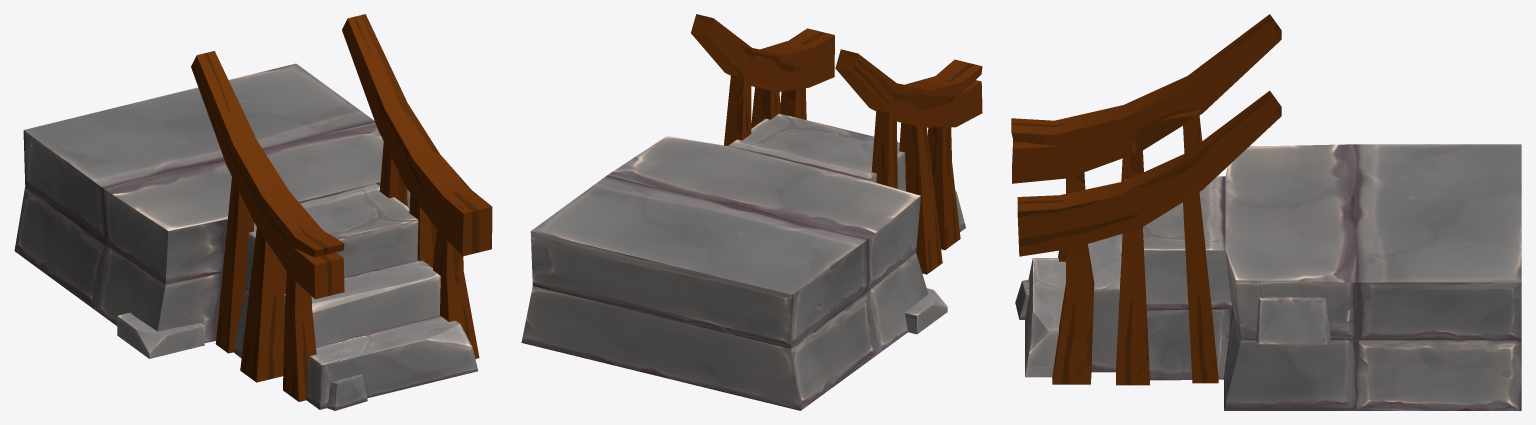
Rendered from SM_BLD_stairs_v01_01.fbx.
3 renders of one model, left to right at view 1: azimuth 30°, elevation 25°; view 2: azimuth 150°, elevation 25°; view 3: azimuth 270°, elevation 25°, orthographic. The views are drawn at different scales.
Visible parts, largest first — view 1: SM_BLD_stairs_v01_01; view 2: SM_BLD_stairs_v01_01; view 3: SM_BLD_stairs_v01_01.
Part boxes in pixels (left/top/right/bottom): SM_BLD_stairs_v01_01: left=14, top=14, right=492, bottom=410; SM_BLD_stairs_v01_01: left=521, top=14, right=982, bottom=410; SM_BLD_stairs_v01_01: left=1011, top=14, right=1521, bottom=410.
Bounding box in the file's own units: 240 × 206 × 340.
